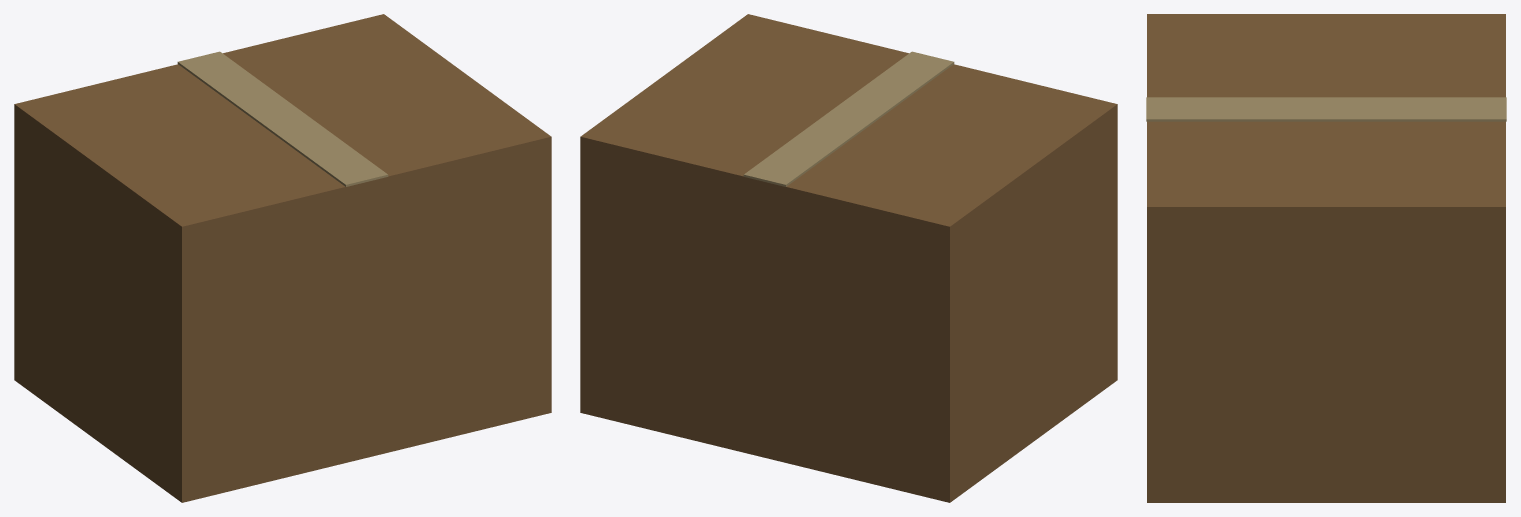
File: boxes_1.glb
3 renders of one model, left to right at view 1: azimuth 30°, elevation 25°; view 2: azimuth 150°, elevation 25°; view 3: azimuth 270°, elevation 25°, orthographic. The views are drawn at different scales.
Parts seen in each view (by area): view 1: boxes_1; view 2: boxes_1; view 3: boxes_1.
Part boxes in pixels (x1=…): boxes_1: x1=14, y1=14, x2=551, y2=502; boxes_1: x1=580, y1=14, x2=1117, y2=502; boxes_1: x1=1146, y1=14, x2=1506, y2=502.
Size of the model in its own units: 0.7 by 0.504 by 0.552.
